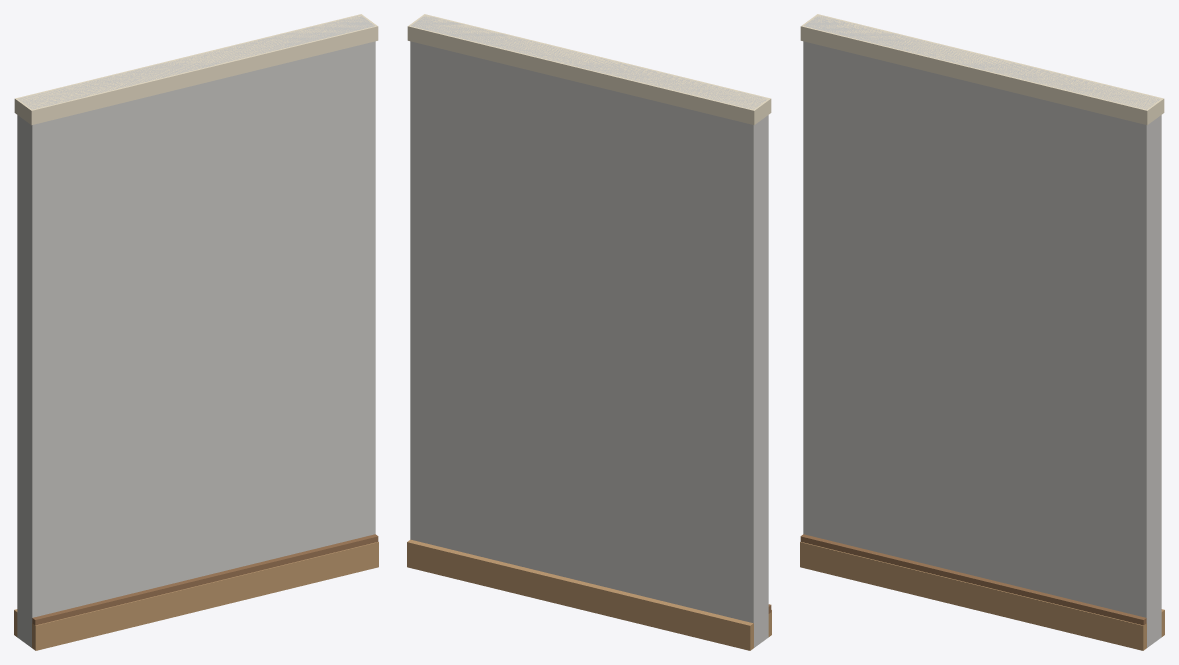
File: env_interior_wall_01.glb
The picture shows the model from 3 angles, left to right: view 1: azimuth 30°, elevation 25°; view 2: azimuth 150°, elevation 25°; view 3: azimuth 330°, elevation 25°; orthographic projection.
Parts seen in each view (by area): view 1: env_interior_wall_01_body; view 2: env_interior_wall_01_body; view 3: env_interior_wall_01_body.
Part boxes in pixels (box(x1,y1,x2,y2)): env_interior_wall_01_body: box(14, 14, 378, 650); env_interior_wall_01_body: box(407, 14, 771, 650); env_interior_wall_01_body: box(800, 14, 1164, 650).
Bounding box in the file's own units: 2.02 × 3 × 0.22.
